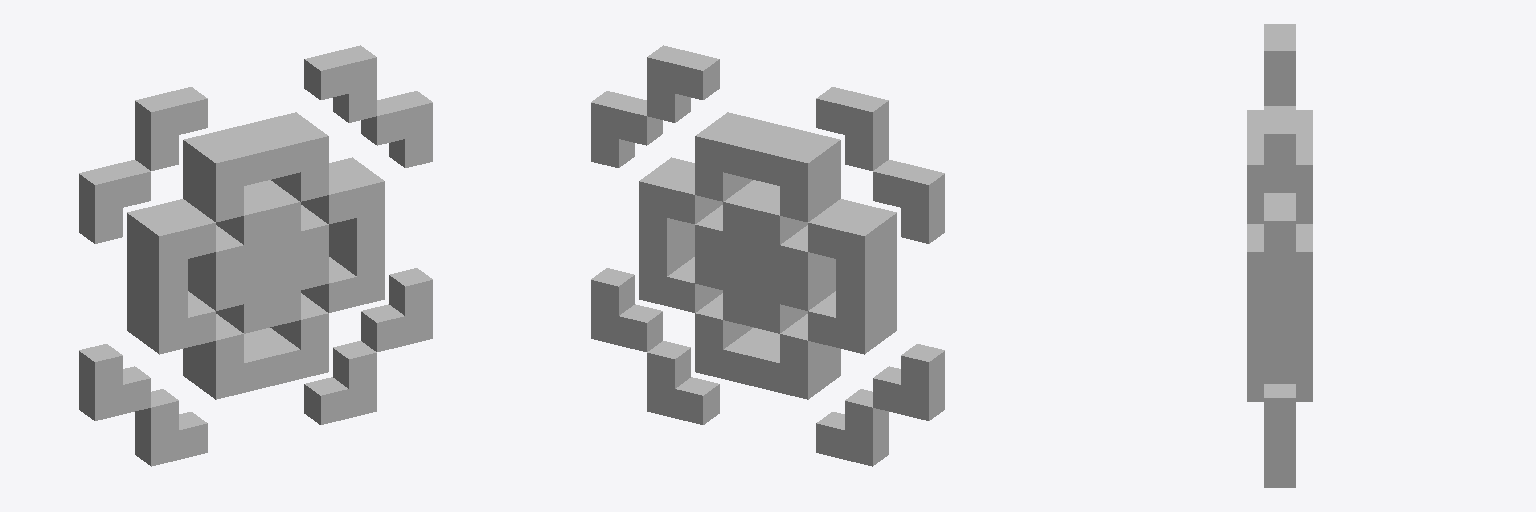
The model's file is particle.obj.
3 renders of one model, left to right at view 1: azimuth 30°, elevation 25°; view 2: azimuth 150°, elevation 25°; view 3: azimuth 270°, elevation 25°, orthographic.
Bounding box in the file's own units: 6 × 6 × 1.